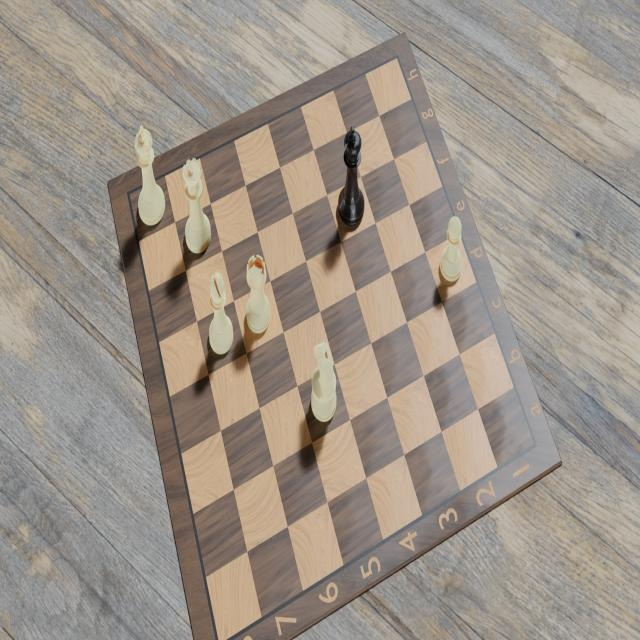black-king: (336, 126, 365, 226)
white-bishop: (206, 270, 234, 358)
white-king: (130, 120, 170, 227)
white-knight: (307, 338, 339, 425)
white-pawn: (438, 211, 463, 289)
white-queen: (181, 157, 211, 255)
white-rook: (244, 250, 272, 337)
